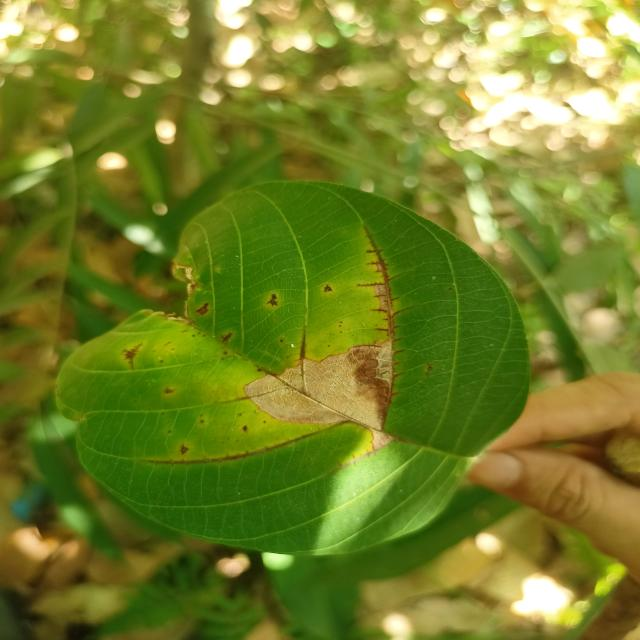Corynespora: (356, 225, 414, 353), (141, 429, 322, 466), (335, 447, 379, 471), (122, 343, 142, 369), (298, 326, 307, 362), (267, 294, 279, 307), (220, 332, 232, 342)
Leaf-Blight: (244, 341, 392, 424), (371, 428, 394, 449)
